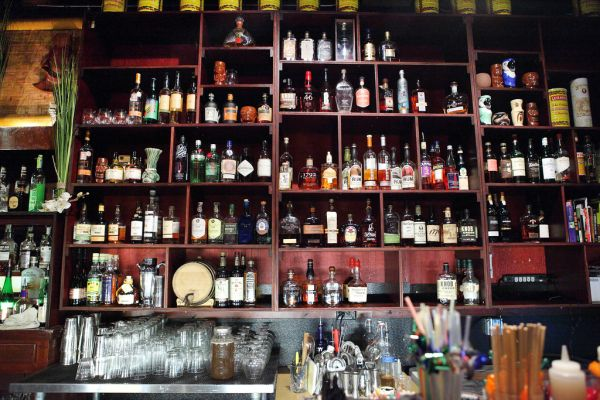unknown_bottle: (344, 259, 368, 304), (360, 198, 377, 247), (462, 260, 480, 306), (214, 253, 229, 308), (229, 254, 244, 308), (303, 207, 323, 247), (323, 266, 342, 307), (363, 135, 377, 189), (301, 259, 317, 306), (244, 258, 257, 307), (400, 204, 415, 246), (413, 204, 427, 246)
